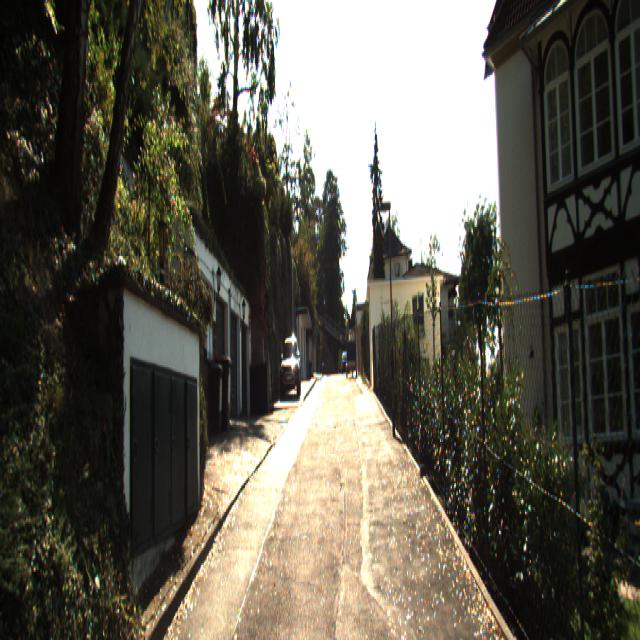Car: (281, 342, 300, 404), (346, 339, 358, 380)
